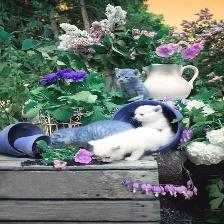kedo: (88, 127, 168, 163), (133, 105, 175, 132)
